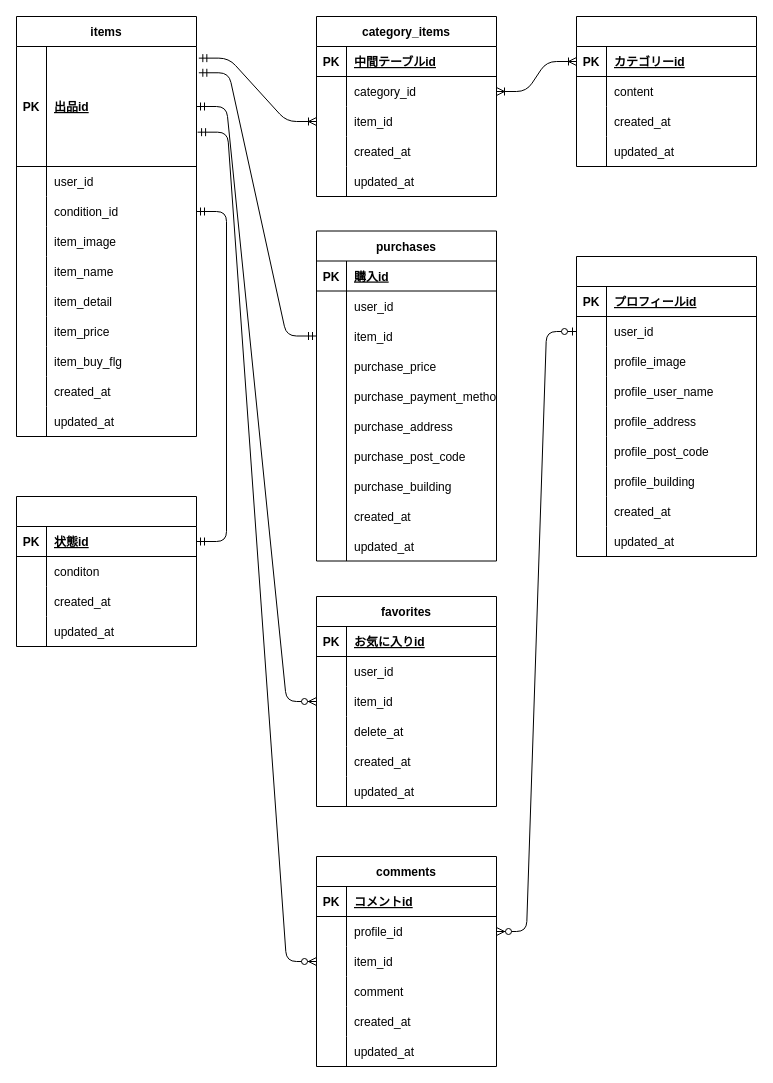
This 773x1083 diagram has some shape labels left out. The box of each missing label's shape, as (x1, y1, x2, y2) in pixels:
categories: (576, 16, 756, 166)
conditions: (16, 496, 196, 646)
profiles: (576, 256, 756, 556)
